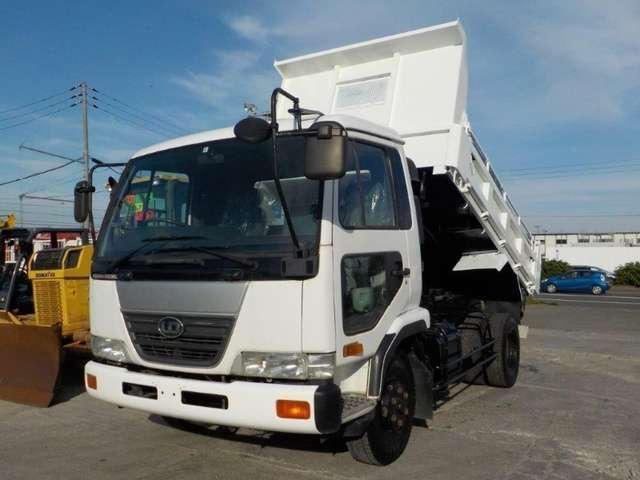car: (541, 267, 610, 296)
truck: (94, 28, 532, 469)
